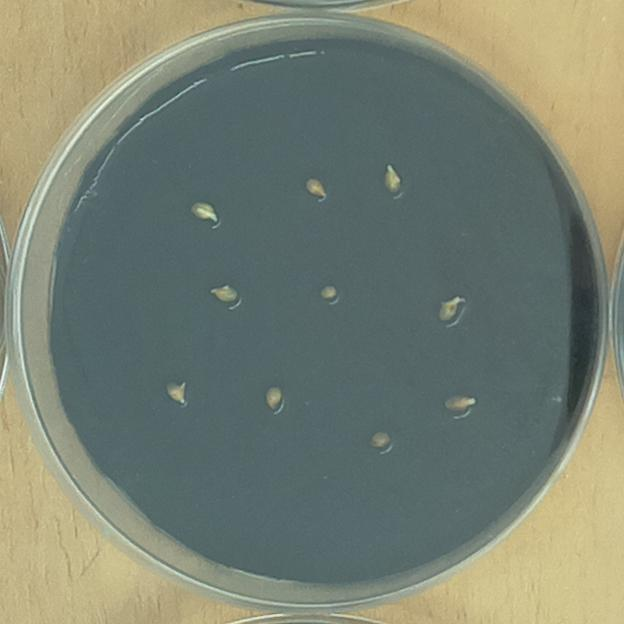pg_el: (200, 277, 250, 316), (429, 288, 473, 332), (373, 156, 410, 205), (435, 388, 482, 425), (182, 194, 226, 231), (156, 372, 194, 412), (296, 170, 336, 207)
pg_im: (361, 421, 399, 461), (257, 377, 293, 419), (312, 277, 348, 310)
